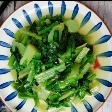youmaicai: (8, 10, 99, 109)
